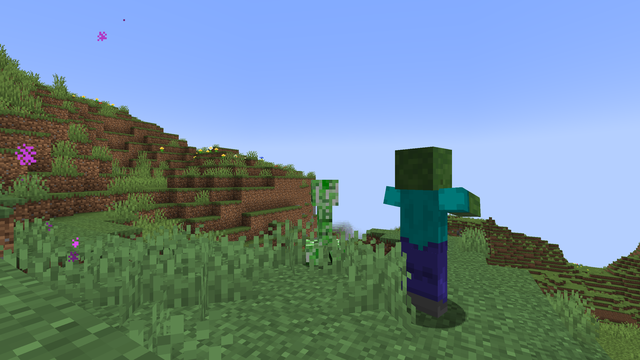creepers: (303, 175, 343, 267)
zombies: (393, 150, 450, 324)
